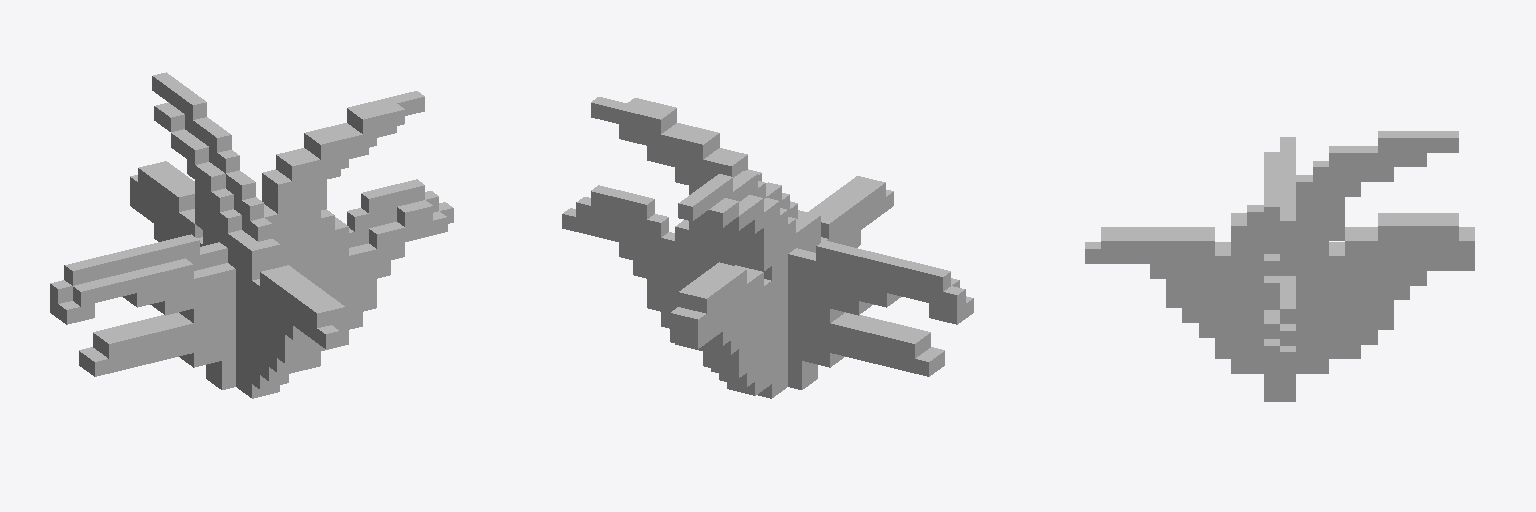
The model's file is TropicalBush1.obj.
3 views of the same model, side by side, from view 1: azimuth 30°, elevation 25°; view 2: azimuth 150°, elevation 25°; view 3: azimuth 270°, elevation 25° (orthographic).
Parts seen in each view (by area): view 1: object 1; view 2: object 1; view 3: object 1.
Boxes of the visible parts, box(x1,y1,x2,y2) form: object 1: box(50, 72, 453, 398); object 1: box(562, 97, 973, 398); object 1: box(1085, 131, 1474, 401).
Size of the model in its own units: 2.8 by 1.6 by 2.4.